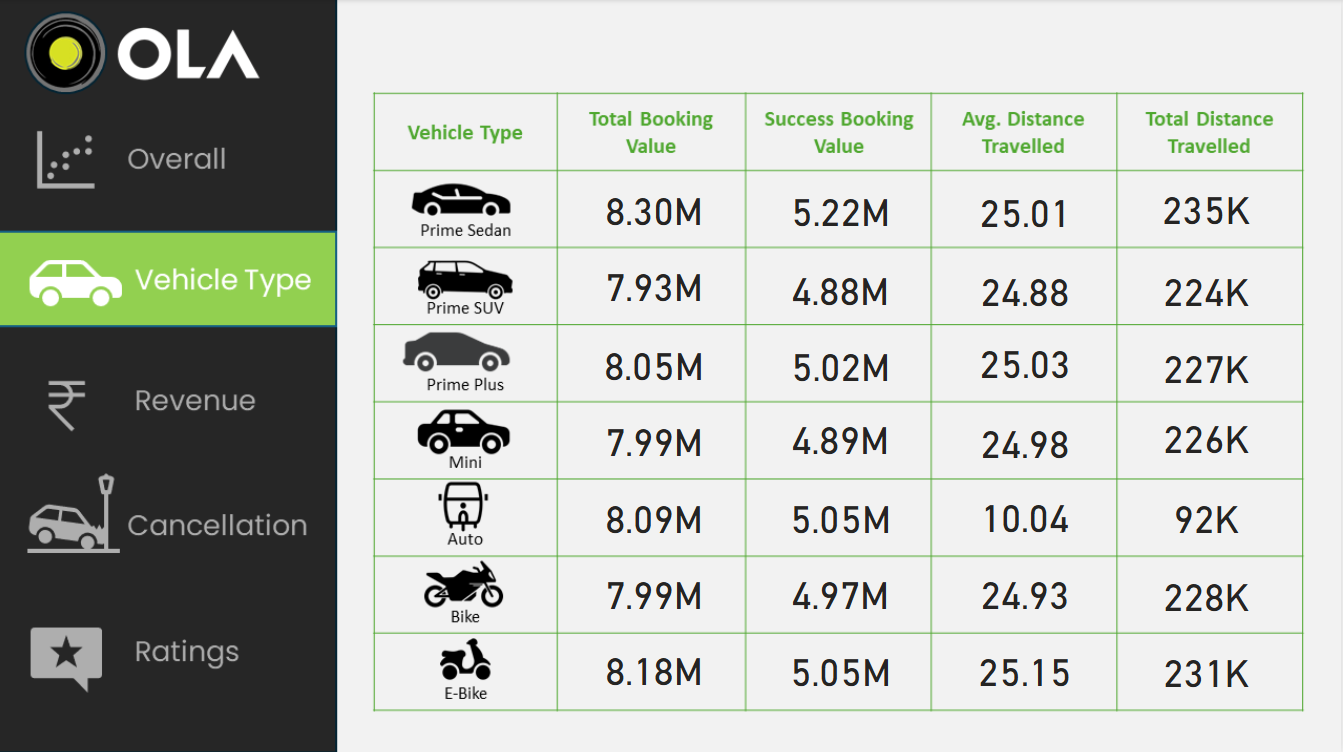

The dashboard page shown, as its layout file describes it:
{"tool":"powerbi","page":{"name":"Vehicle Type","canvas":[1280,720],"ordinal":1},"visuals":[{"type":"actionButton","box":[20.2,226.2,291.7,85.7],"z":0},{"type":"actionButton","box":[20.2,347.6,291.7,71.4],"z":1000},{"type":"actionButton","box":[20.2,444,291.7,102.4],"z":2000},{"type":"actionButton","box":[20.2,591.7,291.7,78.6],"z":3000},{"type":"actionButton","box":[20.2,117.9,291.7,66.7],"z":4000},{"type":"card","fields":{"Values":["Sum(Ola.Booking_Value)"]},"box":[535.2,163.3,178.4,72.7],"z":5000},{"type":"card","fields":{"Values":["Sum(Ola.Booking_Value)"]},"box":[535.2,236,178.4,72.7],"z":6000},{"type":"card","fields":{"Values":["Sum(Ola.Booking_Value)"]},"box":[535.2,310.1,178.4,72.7],"z":7000},{"type":"card","fields":{"Values":["Sum(Ola.Booking_Value)"]},"box":[713.6,311.5,178.4,72.7],"z":8000},{"type":"card","fields":{"Values":["Sum(Ola.Booking_Value)"]},"box":[535.2,455.6,178.4,72.7],"z":9000},{"type":"card","fields":{"Values":["Sum(Ola.Booking_Value)"]},"box":[535.2,528.3,178.4,72.7],"z":10000},{"type":"card","fields":{"Values":["Sum(Ola.Booking_Value)"]},"box":[535.2,601,178.4,72.7],"z":11000},{"type":"card","fields":{"Values":["Sum(Ola.Booking_Value)"]},"box":[713.6,164.7,178.4,72.7],"z":12000},{"type":"card","fields":{"Values":["Sum(Ola.Booking_Value)"]},"box":[713.6,238.8,178.4,72.7],"z":13000},{"type":"card","fields":{"Values":["Sum(Ola.Booking_Value)"]},"box":[535.2,382.8,178.4,72.7],"z":14000},{"type":"card","fields":{"Values":["Sum(Ola.Booking_Value)"]},"box":[713.6,381.5,178.4,72.7],"z":15000},{"type":"card","fields":{"Values":["Sum(Ola.Booking_Value)"]},"box":[713.6,455.6,178.4,72.7],"z":16000},{"type":"card","fields":{"Values":["Sum(Ola.Booking_Value)"]},"box":[713.6,528.3,178.4,72.7],"z":17000},{"type":"card","fields":{"Values":["Sum(Ola.Booking_Value)"]},"box":[713.6,602.4,178.4,72.7],"z":18000},{"type":"card","fields":{"Values":["Avg(Ola.Ride_Distance)"]},"box":[891.9,164.7,172.9,74.1],"z":19000},{"type":"card","fields":{"Values":["Avg(Ola.Ride_Distance)"]},"box":[891.9,601,172.9,74.1],"z":20000},{"type":"card","fields":{"Values":["Avg(Ola.Ride_Distance)"]},"box":[891.9,528.3,172.9,74.1],"z":21000},{"type":"card","fields":{"Values":["Avg(Ola.Ride_Distance)"]},"box":[891.9,454.2,172.9,74.1],"z":22000},{"type":"card","fields":{"Values":["Avg(Ola.Ride_Distance)"]},"box":[891.9,384.2,172.9,74.1],"z":23000},{"type":"card","fields":{"Values":["Avg(Ola.Ride_Distance)"]},"box":[891.9,308.7,172.9,74.1],"z":24000},{"type":"card","fields":{"Values":["Avg(Ola.Ride_Distance)"]},"box":[891.9,238.8,172.9,74.1],"z":25000},{"type":"card","fields":{"Values":["Sum(Ola.Ride_Distance)"]},"box":[1064.8,161.9,172.9,74.1],"z":26000},{"type":"card","fields":{"Values":["Sum(Ola.Ride_Distance)"]},"box":[1064.8,238.8,172.9,74.1],"z":27000},{"type":"card","fields":{"Values":["Sum(Ola.Ride_Distance)"]},"box":[1064.8,312.9,172.9,74.1],"z":28000},{"type":"card","fields":{"Values":["Sum(Ola.Ride_Distance)"]},"box":[1064.8,380.1,172.9,74.1],"z":29000},{"type":"card","fields":{"Values":["Sum(Ola.Ride_Distance)"]},"box":[1064.8,455.6,172.9,74.1],"z":30000},{"type":"card","fields":{"Values":["Sum(Ola.Ride_Distance)"]},"box":[1064.8,529.7,172.9,74.1],"z":31000},{"type":"card","fields":{"Values":["Sum(Ola.Ride_Distance)"]},"box":[1064.8,602.4,172.9,74.1],"z":32000}]}

Visuals, with their boxes on the page's 1280x720 design canvas (x1, y1, x2, y2). These are canvas units, not pixel positions in the 1343x752 screenshot, which may show the page scaled, cropped or inside an application window:
actionButton: detection(20, 226, 312, 312)
actionButton: detection(20, 348, 312, 419)
actionButton: detection(20, 444, 312, 546)
actionButton: detection(20, 592, 312, 670)
actionButton: detection(20, 118, 312, 185)
card - Sum(Ola.Booking_Value): detection(535, 163, 714, 236)
card - Sum(Ola.Booking_Value): detection(535, 236, 714, 309)
card - Sum(Ola.Booking_Value): detection(535, 310, 714, 383)
card - Sum(Ola.Booking_Value): detection(714, 312, 892, 384)
card - Sum(Ola.Booking_Value): detection(535, 456, 714, 528)
card - Sum(Ola.Booking_Value): detection(535, 528, 714, 601)
card - Sum(Ola.Booking_Value): detection(535, 601, 714, 674)
card - Sum(Ola.Booking_Value): detection(714, 165, 892, 237)
card - Sum(Ola.Booking_Value): detection(714, 239, 892, 312)
card - Sum(Ola.Booking_Value): detection(535, 383, 714, 456)
card - Sum(Ola.Booking_Value): detection(714, 382, 892, 454)
card - Sum(Ola.Booking_Value): detection(714, 456, 892, 528)
card - Sum(Ola.Booking_Value): detection(714, 528, 892, 601)
card - Sum(Ola.Booking_Value): detection(714, 602, 892, 675)
card - Avg(Ola.Ride_Distance): detection(892, 165, 1065, 239)
card - Avg(Ola.Ride_Distance): detection(892, 601, 1065, 675)
card - Avg(Ola.Ride_Distance): detection(892, 528, 1065, 602)
card - Avg(Ola.Ride_Distance): detection(892, 454, 1065, 528)
card - Avg(Ola.Ride_Distance): detection(892, 384, 1065, 458)
card - Avg(Ola.Ride_Distance): detection(892, 309, 1065, 383)
card - Avg(Ola.Ride_Distance): detection(892, 239, 1065, 313)
card - Sum(Ola.Ride_Distance): detection(1065, 162, 1238, 236)
card - Sum(Ola.Ride_Distance): detection(1065, 239, 1238, 313)
card - Sum(Ola.Ride_Distance): detection(1065, 313, 1238, 387)
card - Sum(Ola.Ride_Distance): detection(1065, 380, 1238, 454)
card - Sum(Ola.Ride_Distance): detection(1065, 456, 1238, 530)
card - Sum(Ola.Ride_Distance): detection(1065, 530, 1238, 604)
card - Sum(Ola.Ride_Distance): detection(1065, 602, 1238, 676)
